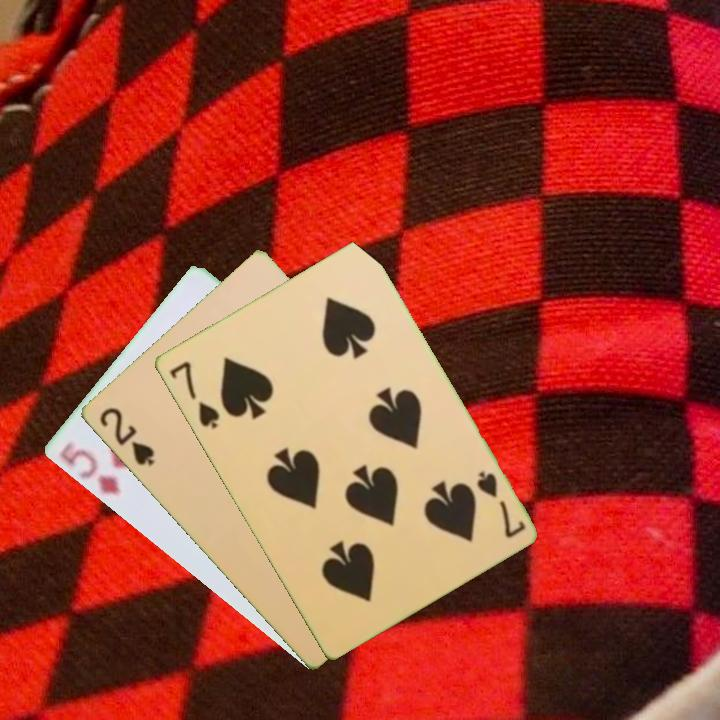2s: (95, 403, 157, 469)
5d: (55, 443, 124, 498)
7s: (165, 357, 222, 432), (472, 467, 528, 541)
